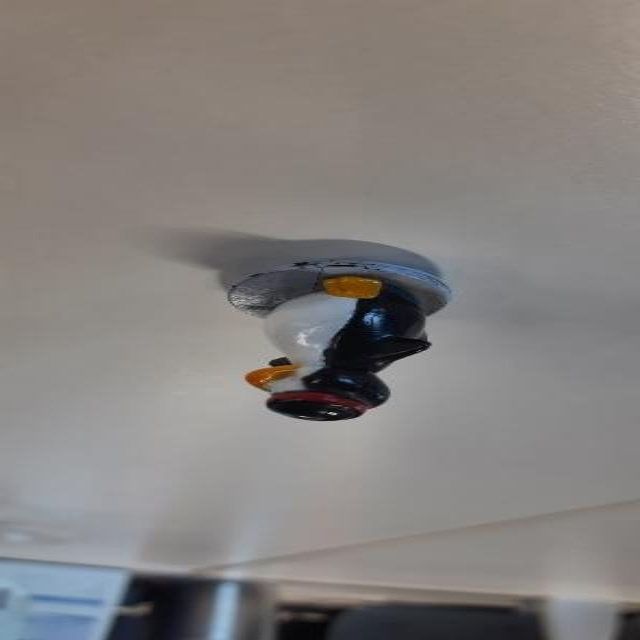Penguin: (119, 228, 453, 436)
